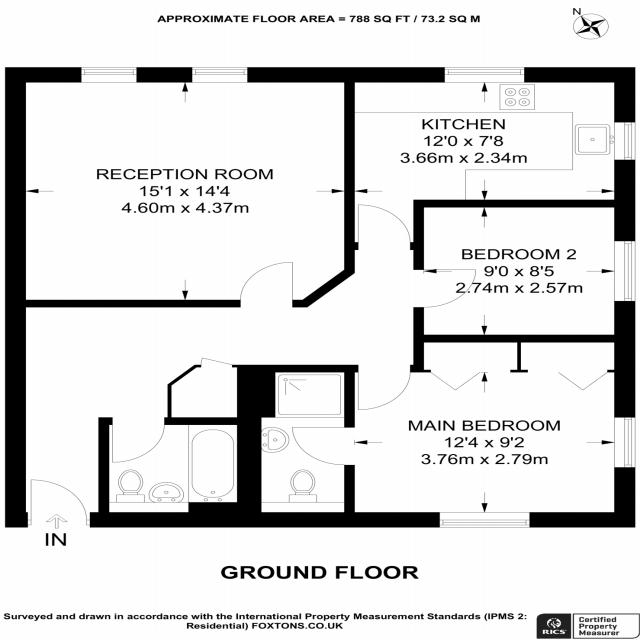DOOR: (25, 478, 92, 530), (353, 203, 414, 249), (237, 261, 296, 308), (355, 364, 413, 411), (412, 268, 478, 309), (289, 426, 355, 467), (110, 418, 167, 464)
ROOM: (4, 67, 354, 308), (290, 333, 637, 528), (344, 67, 636, 251), (413, 199, 637, 342)
WINDOW: (436, 511, 532, 528), (613, 239, 637, 302), (441, 66, 526, 83), (613, 416, 636, 469), (79, 66, 139, 84), (189, 67, 250, 84), (614, 121, 637, 162)
